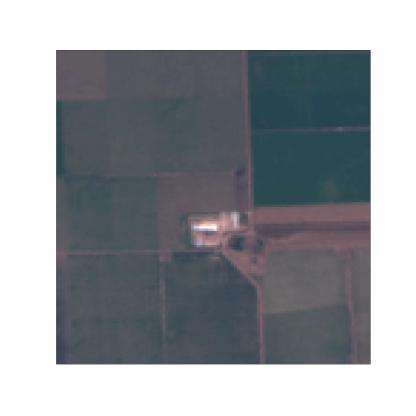silobolsa: (191, 222, 218, 233)
